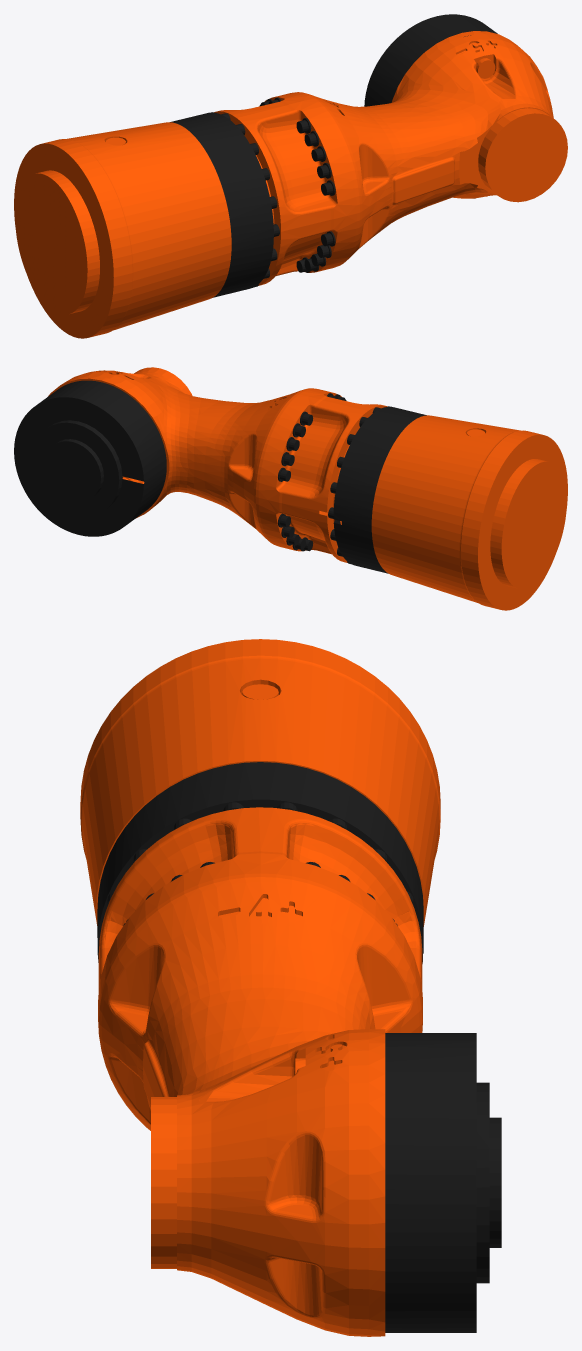
3 renders of one model, top to bottom at view 1: azimuth 30°, elevation 25°; view 2: azimuth 150°, elevation 25°; view 3: azimuth 270°, elevation 25°, orthographic. The views are drawn at different scales.
Visible parts, largest first — view 1: link_4; view 2: link_4; view 3: link_4.
Part boxes in pixels (x1,y1,x2,y2): link_4: (14, 14, 567, 338); link_4: (14, 367, 567, 610); link_4: (80, 639, 501, 1336).
Size of the model in its own units: 0.414 by 0.1613 by 0.138.
